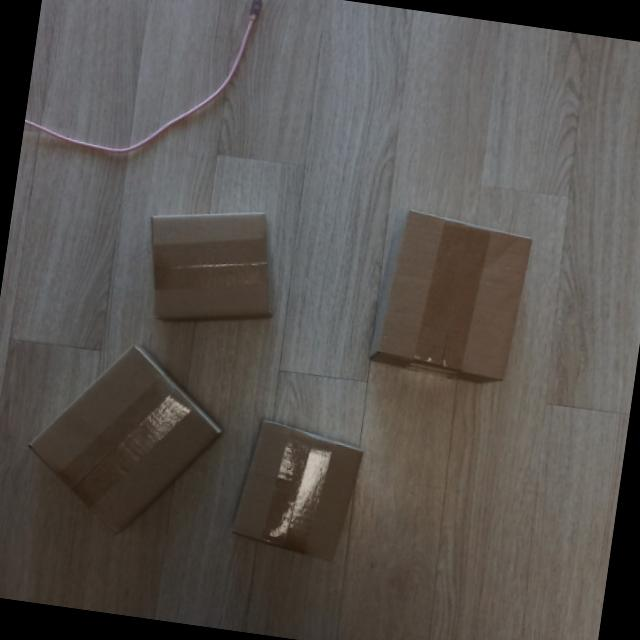box: (9, 326, 240, 556), (368, 206, 540, 391), (222, 410, 374, 572), (130, 194, 292, 345)
